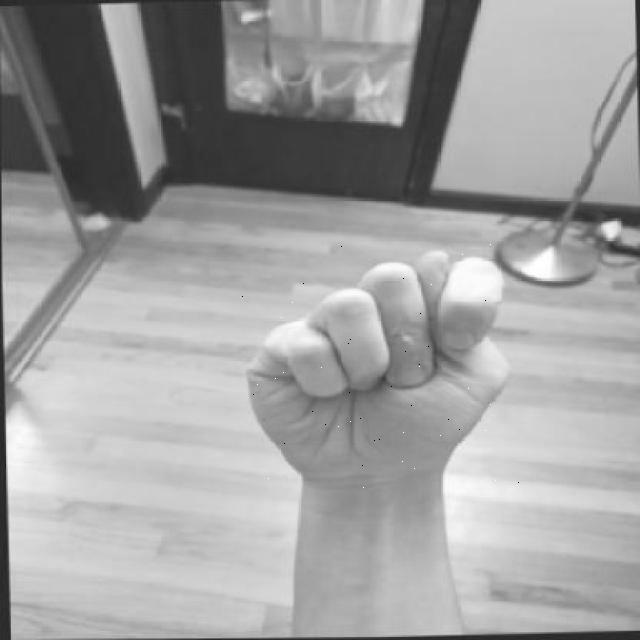T: (233, 242, 521, 490)
